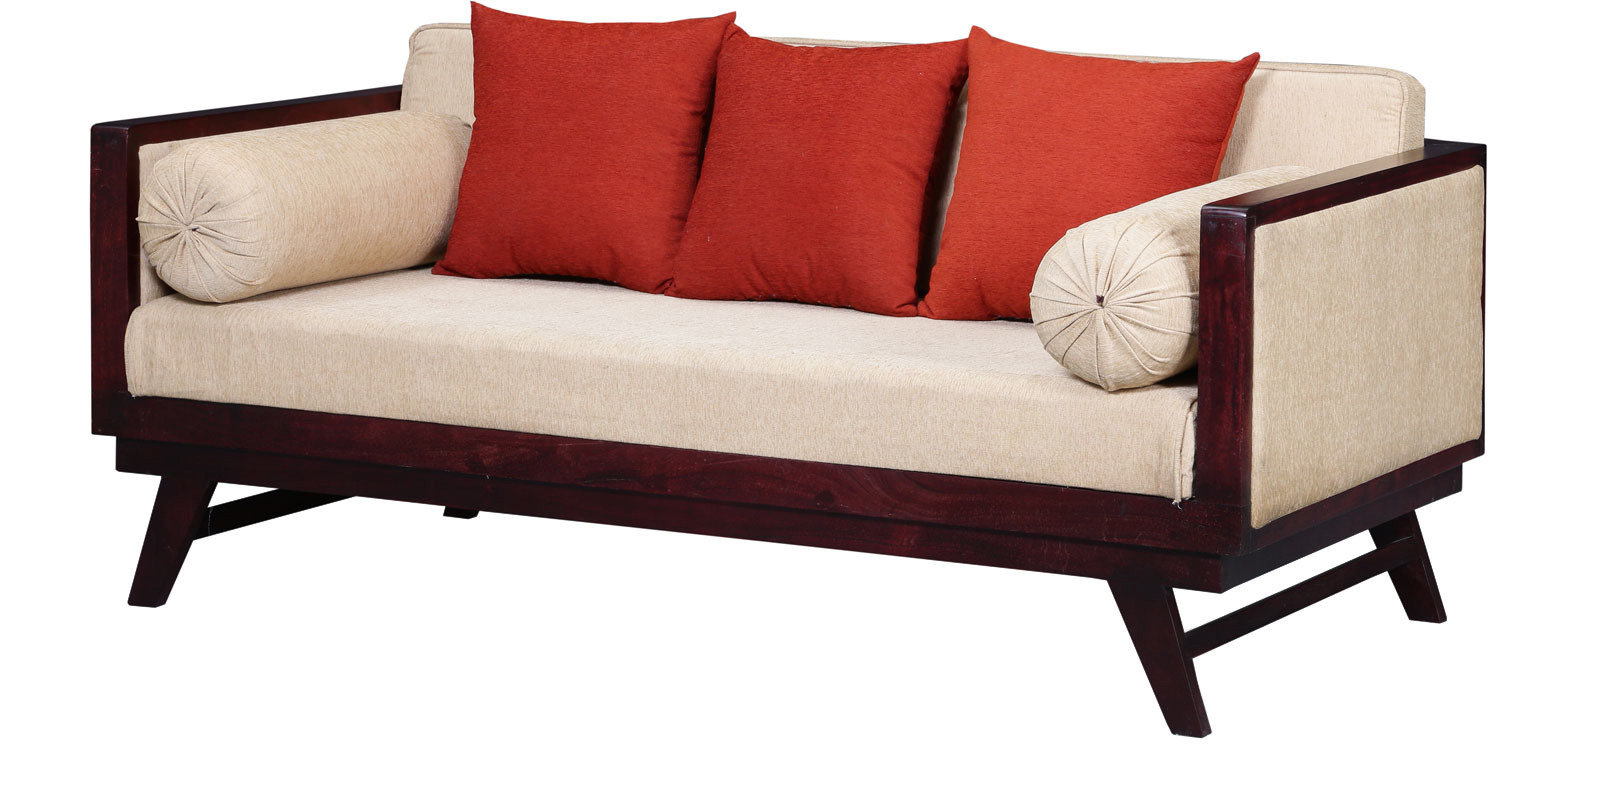Barnes Three Seater Sofa with Cushions in Passion Mahogany Finish by Woodsworth: (62, 1, 1523, 722)
